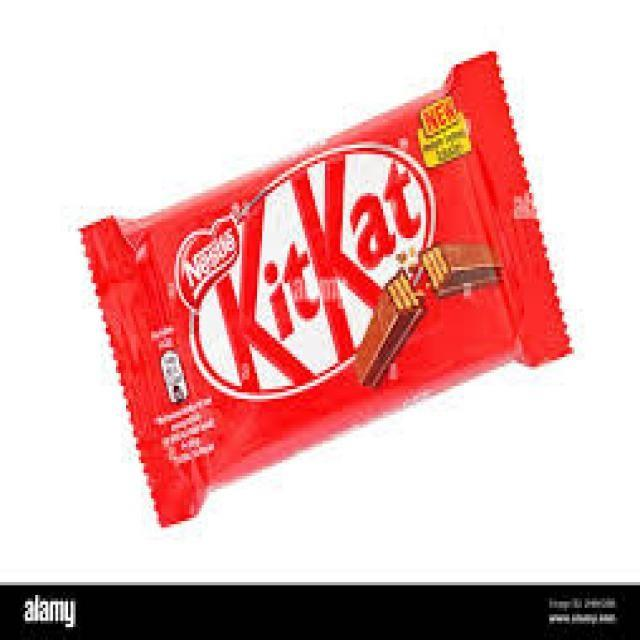kitkat_chocolate: (173, 67, 525, 480)
